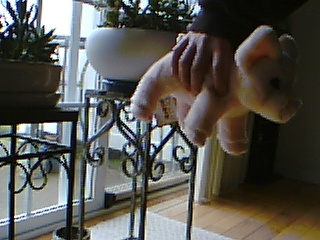piggy: (128, 24, 305, 157)
